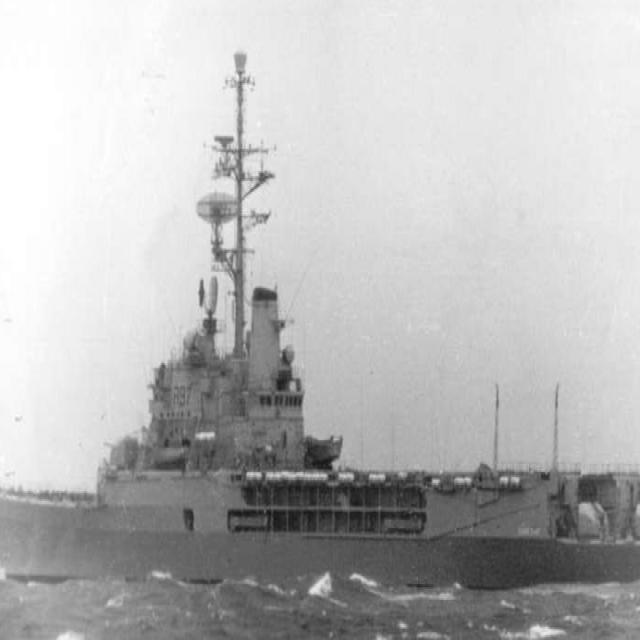Portanaves: (1, 57, 640, 596)
